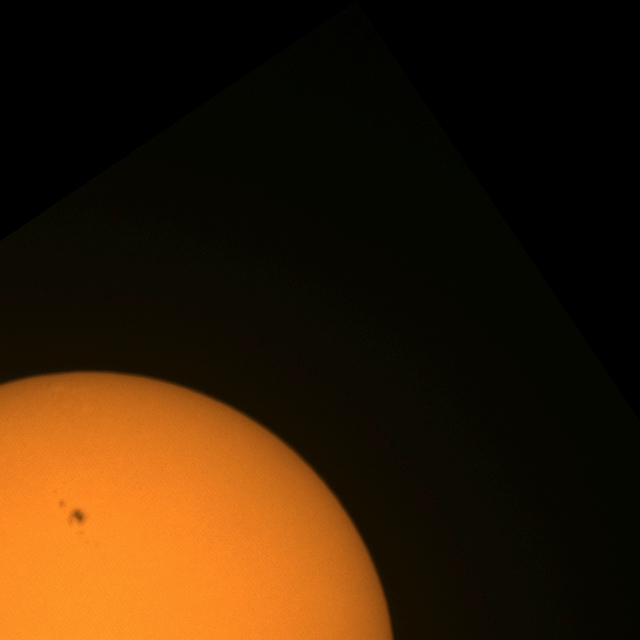sunspot: (58, 498, 87, 528)
